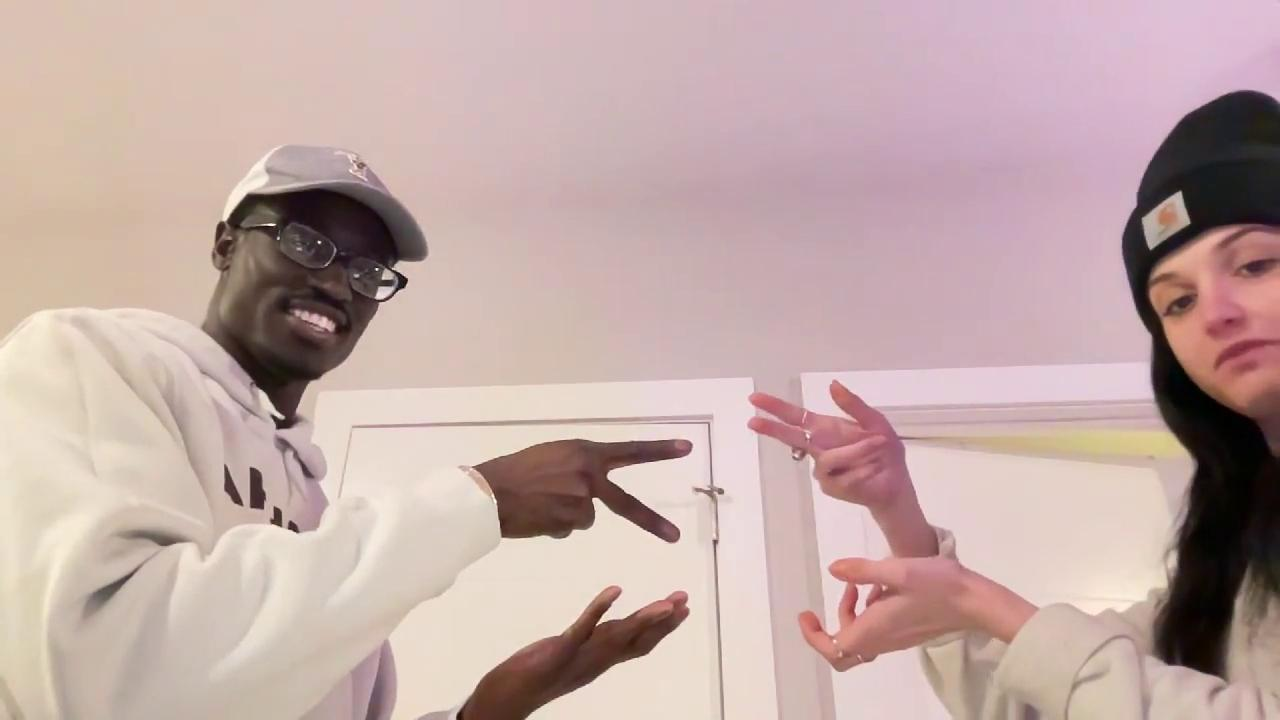Scissors: (490, 433, 691, 543), (748, 380, 907, 513)
